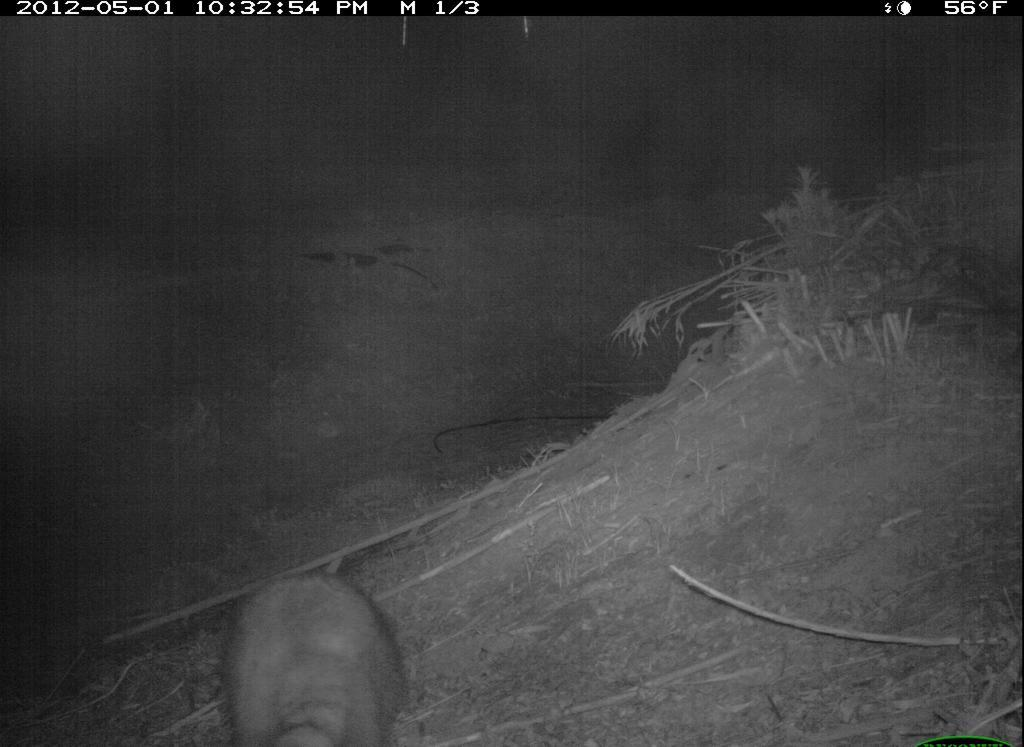raccoon: (223, 562, 413, 747)
